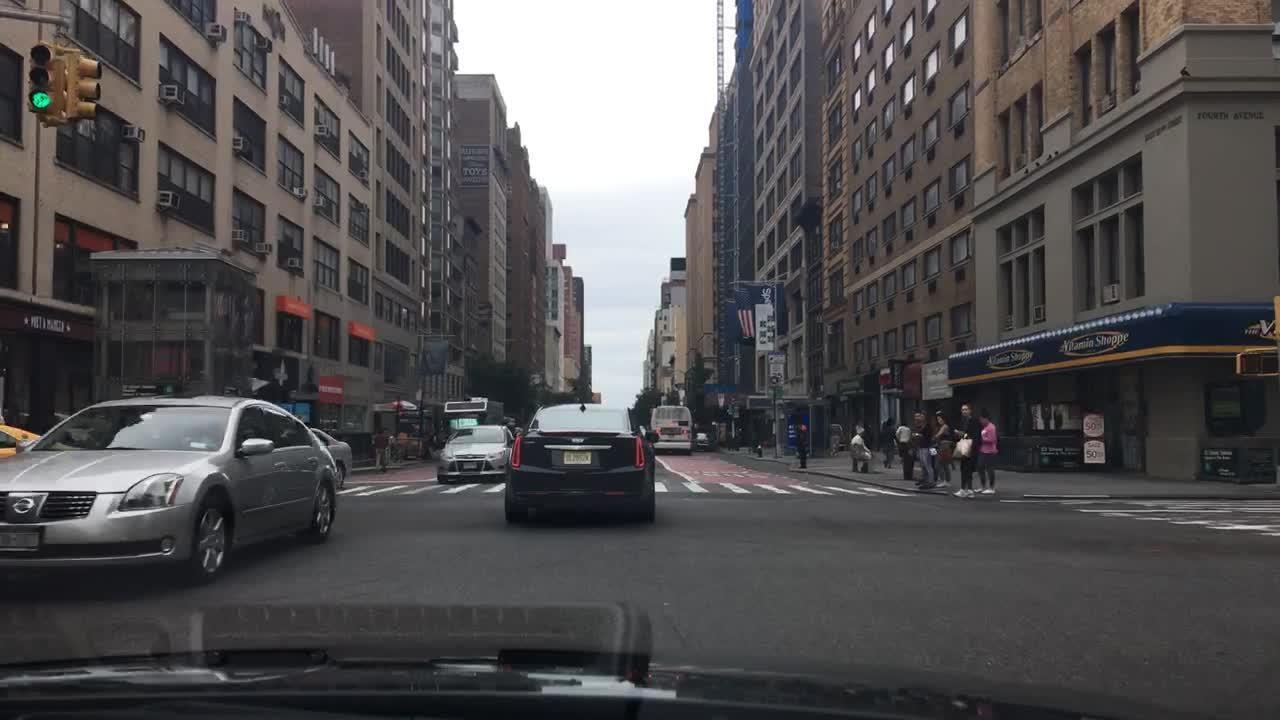Nissan: (7, 494, 37, 518)
cadillac: (563, 433, 593, 451)
